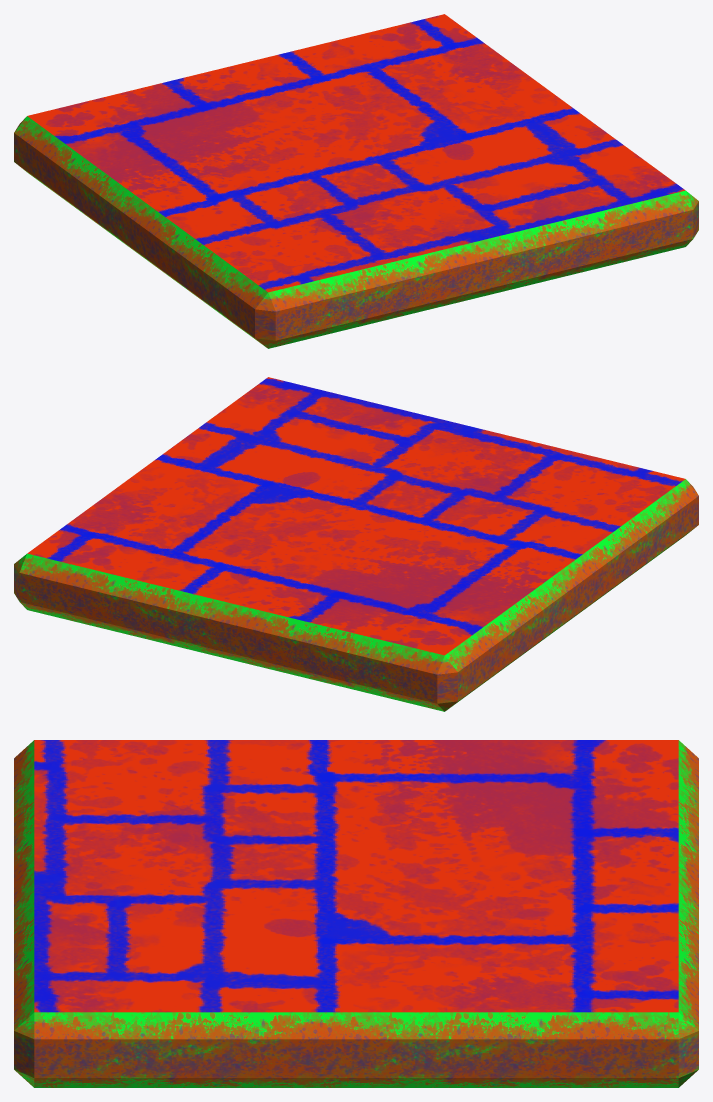
Rendered from PRM Floor Tile Stone.fbx.
3 renders of one model, top to bottom at view 1: azimuth 30°, elevation 25°; view 2: azimuth 150°, elevation 25°; view 3: azimuth 270°, elevation 25°, orthographic. The views are drawn at different scales.
Parts seen in each view (by area): view 1: Tile Stone; view 2: Tile Stone; view 3: Tile Stone.
Part boxes in pixels (bbox=[...]): Tile Stone: bbox=[14, 14, 698, 348]; Tile Stone: bbox=[14, 377, 698, 711]; Tile Stone: bbox=[14, 740, 698, 1087].
Bounding box in the file's own units: 1195 × 145 × 1195.
